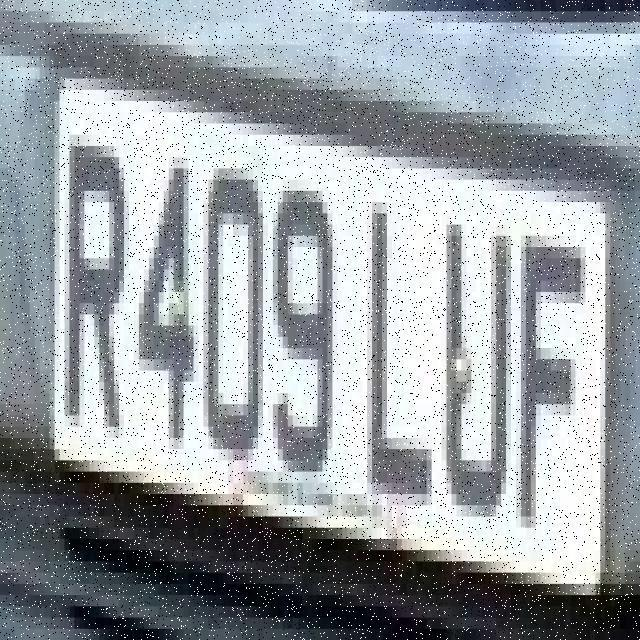LicensePlate: (49, 34, 615, 609)
